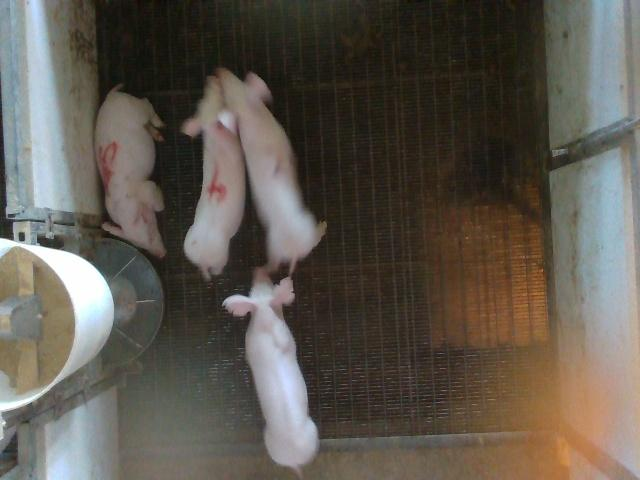pig-2: (216, 68, 326, 273)
pig-4: (181, 76, 245, 279)
pig-5: (95, 84, 166, 257)
